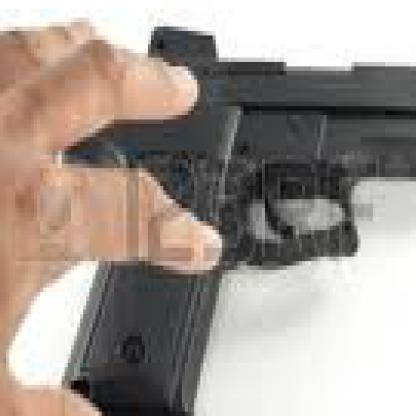gun: (40, 18, 413, 412)
